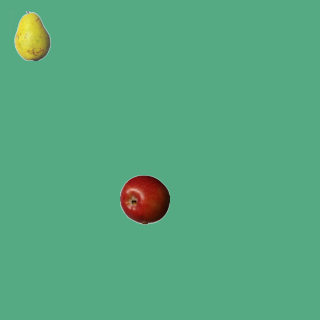Apple Braeburn: (119, 174, 169, 224)
Pear Monster: (7, 10, 57, 60)
